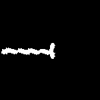half_double_crochet: (2, 43, 54, 58)
